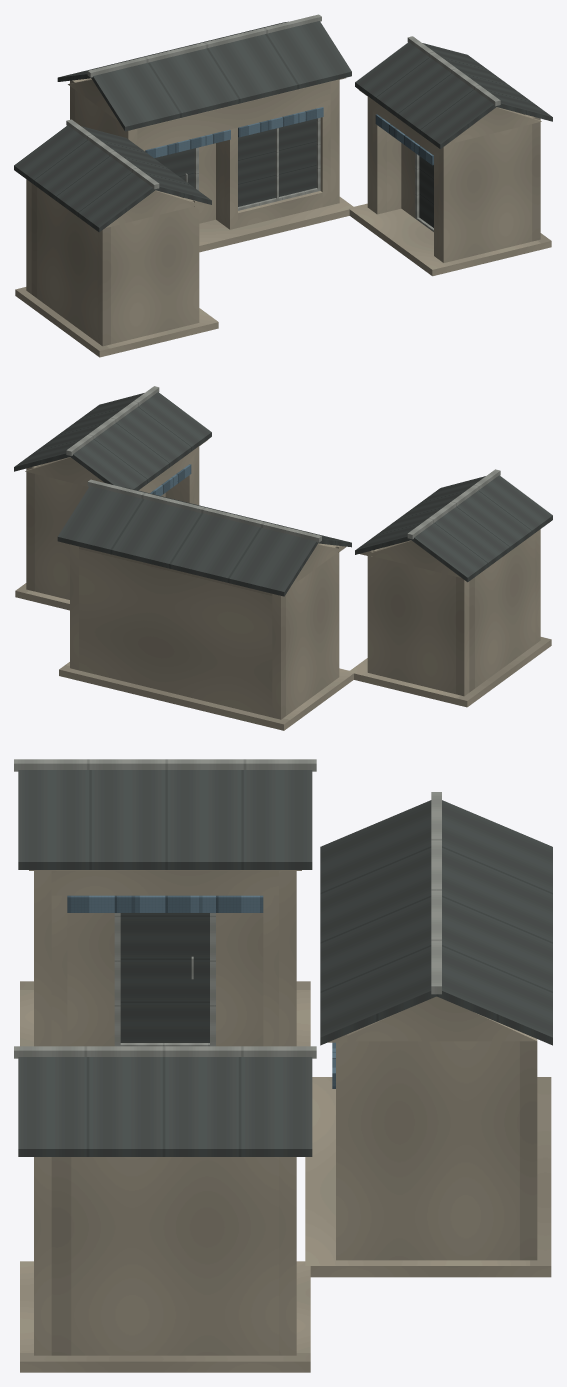
File: warsaw.glb
3 renders of one model, top to bottom at view 1: azimuth 30°, elevation 25°; view 2: azimuth 150°, elevation 25°; view 3: azimuth 270°, elevation 25°, orthographic. The views are drawn at different scales.
Visible parts, largest first — view 1: warsaw; view 2: warsaw; view 3: warsaw.
Part boxes in pixels (x1,y1,x2,y2): warsaw: (14,14,552,357); warsaw: (14,386,552,730); warsaw: (14,759,552,1372).
Size of the model in its own units: 8.6 by 3.08 by 5.13.
1 material, 1 textured.
